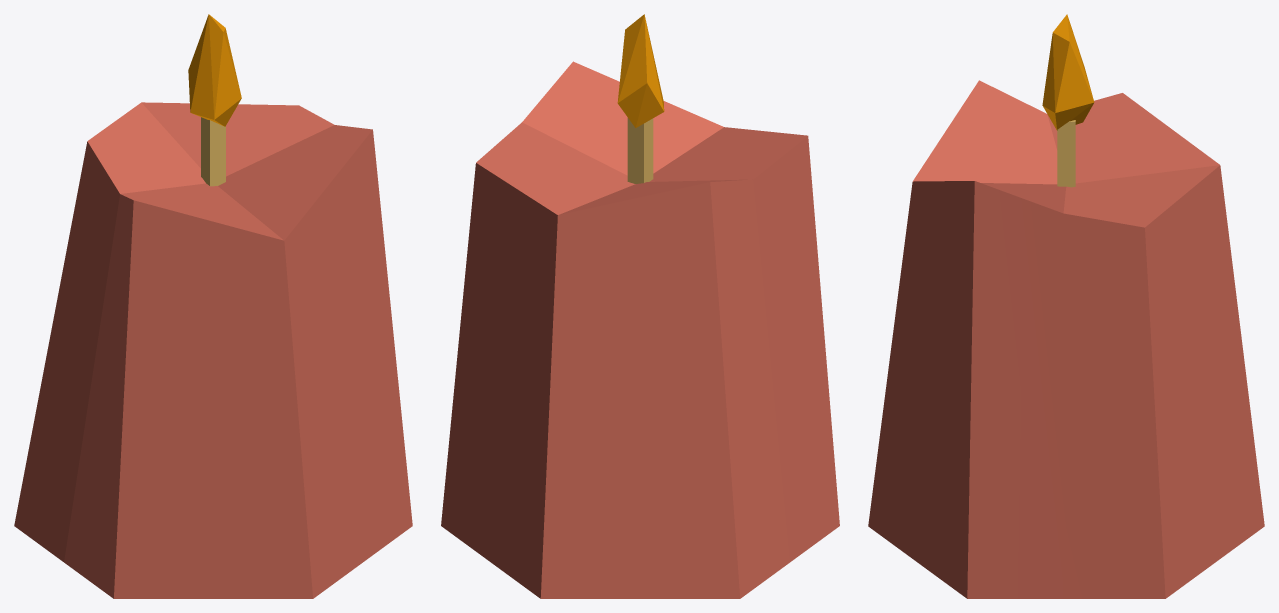
Rendered from Candle_02.fbx.
3 views of the same model, side by side, from view 1: azimuth 30°, elevation 25°; view 2: azimuth 150°, elevation 25°; view 3: azimuth 270°, elevation 25° (orthographic).
Parts seen in each view (by area): view 1: Candle_02; view 2: Candle_02; view 3: Candle_02.
Boxes of the visible parts, <box> form: Candle_02: <box>14,14,412,598</box>; Candle_02: <box>441,14,839,598</box>; Candle_02: <box>868,14,1264,598</box>.
Size of the model in its own units: 0.1112 by 0.1823 by 0.1284.
